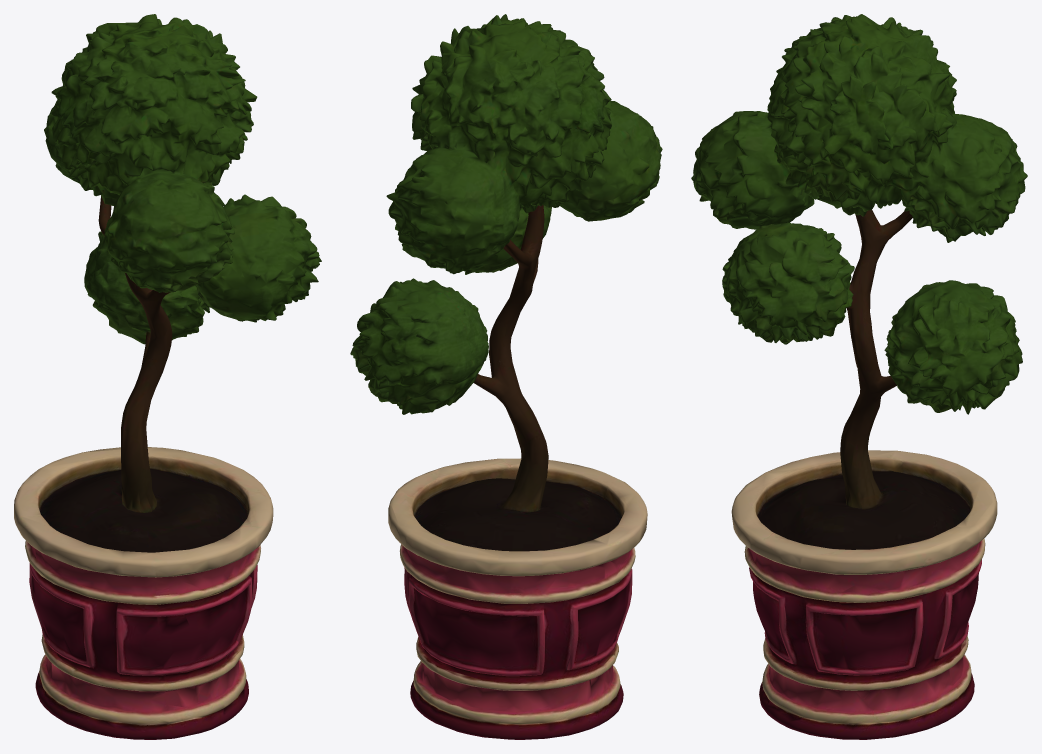
File: plant.glb
3 views of the same model, side by side, from view 1: azimuth 30°, elevation 25°; view 2: azimuth 150°, elevation 25°; view 3: azimuth 270°, elevation 25° (orthographic).
Parts seen in each view (by area): view 1: tripo_node_c76ceeaf-7b08-4778-8743-f12233c3d158; view 2: tripo_node_c76ceeaf-7b08-4778-8743-f12233c3d158; view 3: tripo_node_c76ceeaf-7b08-4778-8743-f12233c3d158.
Part boxes in pixels (x1,y1,x2,y2): tripo_node_c76ceeaf-7b08-4778-8743-f12233c3d158: (14, 14, 321, 739); tripo_node_c76ceeaf-7b08-4778-8743-f12233c3d158: (350, 14, 662, 739); tripo_node_c76ceeaf-7b08-4778-8743-f12233c3d158: (691, 14, 1027, 739).
Size of the model in its own units: 0.3711 by 0.9999 by 0.4479.
Materials: 1 (1 with a texture image).
